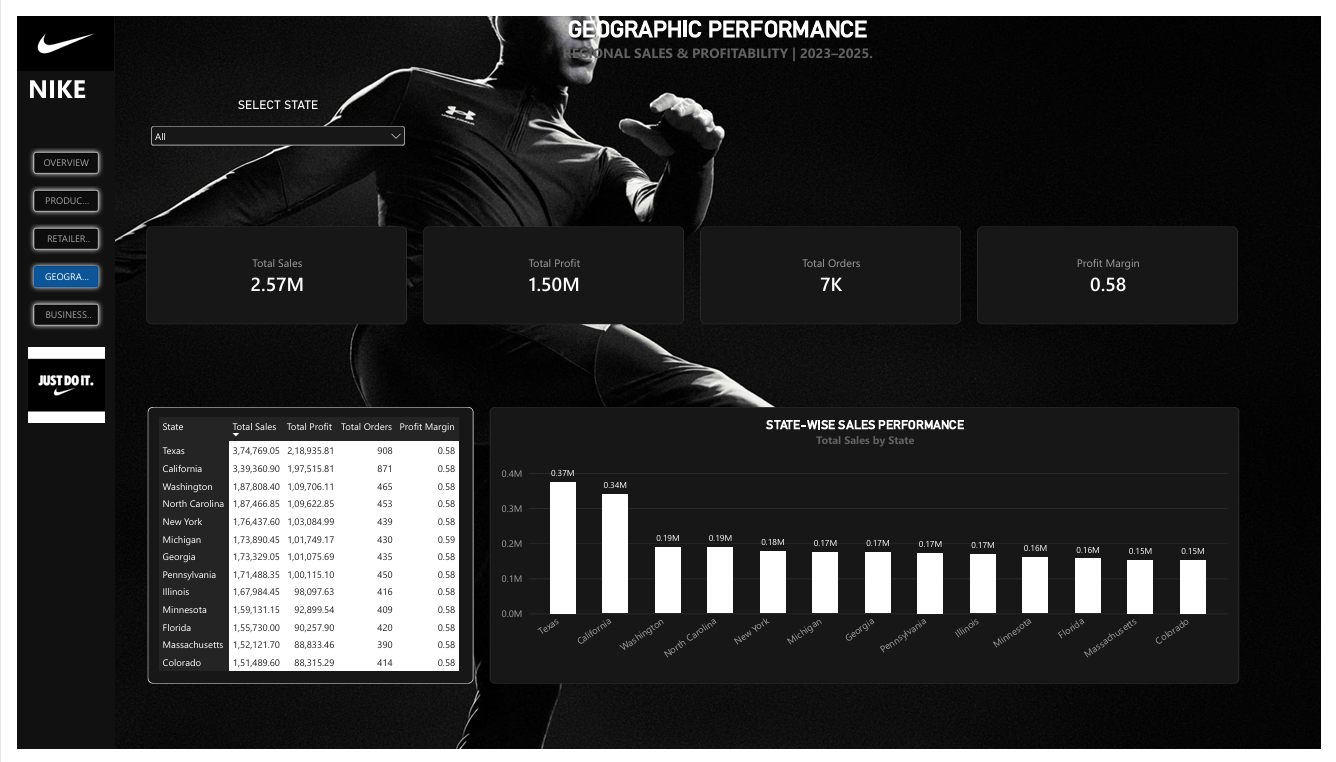

What the dashboard file says about the page in this screenshot:
{"tool":"powerbi","page":{"name":"GEOGRAPHY ANALYSIS","canvas":[1920,1080],"ordinal":3},"visuals":[{"type":"group","id":"g1","title":"Group 1","box":[0,0,144,1080],"z":0},{"type":"image","box":[0,0,144,80],"z":1000},{"type":"textbox","title":"GEOGRAPHIC PERFORMANCE","box":[144,0,1776,72],"z":2000},{"type":"pivotTable","fields":{"Rows":["DimGeography.State"],"Values":["FactOrders.Total Sales","FactOrders.Total Profit","FactOrders.Total Orders","FactOrders.Profit Margin"]},"box":[192,576,480,408],"z":3000},{"type":"clusteredColumnChart","title":"STATE-WISE SALES PERFORMANCE","fields":{"Category":["DimGeography.State"],"Y":["FactOrders.Total Sales"]},"box":[696,576,1104,408],"z":4000},{"type":"cardVisual","fields":{"Data":["FactOrders.Total Sales"]},"box":[190,310,384,144],"z":5000},{"type":"cardVisual","fields":{"Data":["FactOrders.Total Profit"]},"box":[598,310,384,144],"z":6000},{"type":"cardVisual","fields":{"Data":["FactOrders.Total Orders"]},"box":[1006,310,384,144],"z":7000},{"type":"cardVisual","fields":{"Data":["FactOrders.Profit Margin"]},"box":[1414,310,384,144],"z":8000},{"type":"slicer","title":"SELECT STATE","fields":{"Values":["DimGeography.State"]},"box":[192,120,384,120],"z":9000},{"type":"shape","box":[0,0,144,1080],"z":10000,"group":"g1"},{"type":"pageNavigator","box":[16,192,112,272],"z":10000},{"type":"textbox","box":[16,80,112,64],"z":11000,"group":"g1"},{"type":"image","box":[16,480,112,128],"z":12000}]}

Visuals, with their boxes in screenshot pixels (x1, y1, x2, y2), scaled from the page's 1920x1080 canvas onto the 1336x762 screenshot:
"Group 1" group: bbox=[0, 0, 100, 761]
image: bbox=[0, 0, 100, 56]
"GEOGRAPHIC PERFORMANCE" textbox: bbox=[100, 0, 1335, 51]
pivotTable - DimGeography.State x FactOrders.Total Sales: bbox=[134, 406, 468, 694]
"STATE-WISE SALES PERFORMANCE" clusteredColumnChart: bbox=[484, 406, 1252, 694]
cardVisual - FactOrders.Total Sales: bbox=[132, 219, 399, 320]
cardVisual - FactOrders.Total Profit: bbox=[416, 219, 683, 320]
cardVisual - FactOrders.Total Orders: bbox=[700, 219, 967, 320]
cardVisual - FactOrders.Profit Margin: bbox=[984, 219, 1251, 320]
"SELECT STATE" slicer: bbox=[134, 85, 401, 169]
shape: bbox=[0, 0, 100, 761]
pageNavigator: bbox=[11, 135, 89, 327]
textbox: bbox=[11, 56, 89, 102]
image: bbox=[11, 339, 89, 429]
